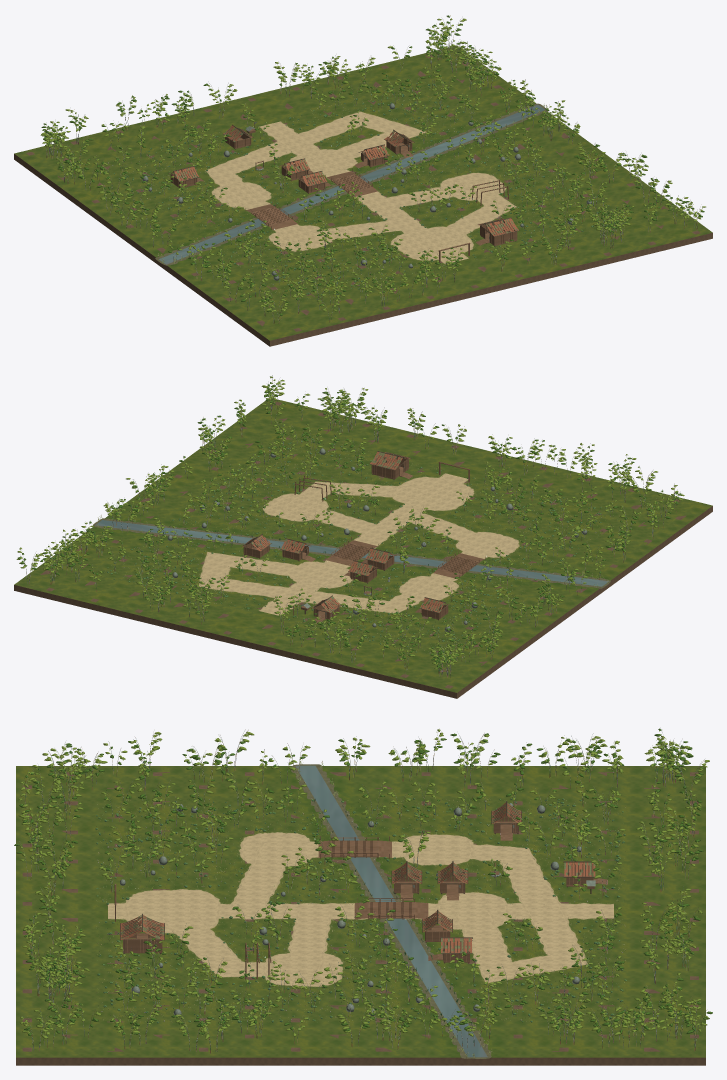
File: bamboo-grove.glb
3 renders of one model, top to bottom at view 1: azimuth 30°, elevation 25°; view 2: azimuth 150°, elevation 25°; view 3: azimuth 270°, elevation 25°, orthographic. The views are drawn at different scales.
Parts seen in each view (by area): view 1: Ground - varied meadow | ground_bamboo_grove, Tracks - worn earth | path, Soil foundation | earth, Feathered road shoulders | path_edge, Bamboo culms 0 | ch2_bamboo, Bamboo culms 1 | ch2_bamboo, Water surface | water, Bamboo foliage 2 | bamboo_leaf, Bamboo foliage 1 | bamboo_leaf, Bamboo foliage 0 | bamboo_leaf, Damp canal edges | mud, Bamboo foliage 6 | bamboo_leaf (+24 smaller); view 2: Ground - varied meadow | ground_bamboo_grove, Tracks - worn earth | path, Soil foundation | earth, Feathered road shoulders | path_edge, Bamboo culms 0 | ch2_bamboo, Bamboo culms 1 | ch2_bamboo, Water surface | water, Bamboo foliage 2 | bamboo_leaf, Bamboo foliage 0 | bamboo_leaf, Bamboo foliage 1 | bamboo_leaf, Damp canal edges | mud, Bamboo foliage 5 | bamboo_leaf (+24 smaller); view 3: Ground - varied meadow | ground_bamboo_grove, Tracks - worn earth | path, Soil foundation | earth, Bamboo culms 0 | ch2_bamboo, Feathered road shoulders | path_edge, Bamboo culms 1 | ch2_bamboo, Water surface | water, Bamboo foliage 2 | bamboo_leaf, Bamboo foliage 1 | bamboo_leaf, Bamboo foliage 0 | bamboo_leaf, Damp canal edges | mud, Bamboo foliage 3 | bamboo_leaf (+31 smaller).
Part boxes in pixels (left/top/right/bottom): Ground - varied meadow | ground_bamboo_grove: left=14, top=45, right=712, bottom=340; Tracks - worn earth | path: left=208, top=113, right=513, bottom=263; Soil foundation | earth: left=14, top=55, right=712, bottom=346; Feathered road shoulders | path_edge: left=205, top=111, right=516, bottom=264; Bamboo culms 0 | ch2_bamboo: left=71, top=24, right=688, bottom=310; Bamboo culms 1 | ch2_bamboo: left=45, top=15, right=699, bottom=323; Water surface | water: left=159, top=104, right=544, bottom=264; Bamboo foliage 2 | bamboo_leaf: left=114, top=86, right=607, bottom=275; Bamboo foliage 1 | bamboo_leaf: left=116, top=78, right=585, bottom=284; Bamboo foliage 0 | bamboo_leaf: left=137, top=64, right=607, bottom=288; Damp canal edges | mud: left=155, top=103, right=548, bottom=265; Bamboo foliage 6 | bamboo_leaf: left=42, top=26, right=688, bottom=314; Ground - varied meadow | ground_bamboo_grove: left=14, top=399, right=712, bottom=692; Tracks - worn earth | path: left=201, top=474, right=516, bottom=615; Soil foundation | earth: left=14, top=402, right=712, bottom=698; Feathered road shoulders | path_edge: left=198, top=473, right=519, bottom=614; Bamboo culms 0 | ch2_bamboo: left=43, top=387, right=648, bottom=674; Bamboo culms 1 | ch2_bamboo: left=21, top=375, right=678, bottom=677; Water surface | water: left=95, top=520, right=608, bottom=586; Bamboo foliage 2 | bamboo_leaf: left=143, top=426, right=597, bottom=636; Bamboo foliage 0 | bamboo_leaf: left=106, top=421, right=616, bottom=632; Bamboo foliage 1 | bamboo_leaf: left=136, top=437, right=597, bottom=643; Damp canal edges | mud: left=93, top=518, right=610, bottom=588; Bamboo foliage 5 | bamboo_leaf: left=16, top=376, right=674, bottom=666; Ground - varied meadow | ground_bamboo_grove: left=16, top=766, right=705, bottom=1057; Tracks - worn earth | path: left=108, top=834, right=613, bottom=985; Soil foundation | earth: left=16, top=772, right=705, bottom=1065; Bamboo culms 0 | ch2_bamboo: left=29, top=733, right=704, bottom=1047; Feathered road shoulders | path_edge: left=108, top=832, right=613, bottom=986; Bamboo culms 1 | ch2_bamboo: left=21, top=728, right=706, bottom=1053; Water surface | water: left=295, top=765, right=487, bottom=1057; Bamboo foliage 2 | bamboo_leaf: left=98, top=780, right=621, bottom=1005; Bamboo foliage 1 | bamboo_leaf: left=100, top=773, right=615, bottom=1009; Bamboo foliage 0 | bamboo_leaf: left=113, top=778, right=625, bottom=1005; Damp canal edges | mud: left=291, top=764, right=491, bottom=1058; Bamboo foliage 3 | bamboo_leaf: left=24, top=735, right=709, bottom=1034.
Size of the model in its own units: 183 by 17.42 by 182.
Materials: 36 (32 with a texture image).
